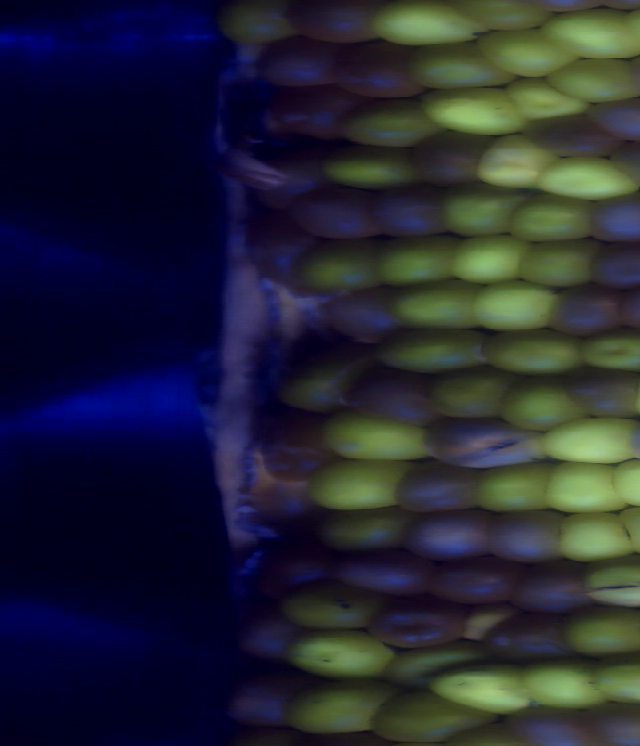fluorescent: (364, 684, 508, 746), (317, 402, 446, 468), (279, 669, 403, 737), (297, 454, 424, 516), (267, 341, 367, 419), (380, 632, 499, 696), (368, 323, 500, 380), (278, 622, 397, 684), (273, 577, 397, 636), (425, 658, 540, 721), (414, 81, 534, 141), (331, 94, 451, 153), (478, 323, 592, 384), (514, 650, 614, 719), (311, 501, 422, 561), (529, 412, 640, 471), (405, 41, 524, 96), (498, 372, 598, 437), (384, 276, 490, 337), (536, 5, 640, 67), (470, 27, 584, 83), (527, 152, 640, 208), (312, 139, 425, 194), (466, 128, 563, 192), (436, 178, 536, 240), (424, 362, 516, 429), (467, 274, 562, 338), (365, 1, 488, 50), (463, 458, 557, 522), (283, 233, 383, 293), (370, 230, 466, 291), (553, 600, 640, 666), (509, 234, 603, 295), (445, 227, 534, 291), (549, 506, 640, 567), (536, 455, 625, 515), (501, 193, 600, 246), (543, 54, 640, 108), (208, 1, 308, 52), (498, 71, 595, 122), (586, 642, 640, 713), (574, 322, 640, 380), (447, 1, 556, 36), (578, 552, 640, 613), (605, 456, 640, 514)
nonfluorescent: (220, 131, 342, 210), (416, 411, 551, 474), (246, 517, 338, 606), (258, 78, 372, 147), (212, 660, 319, 730), (360, 591, 476, 654), (327, 37, 432, 105), (341, 366, 446, 434), (394, 504, 506, 566), (328, 543, 438, 606), (281, 181, 386, 246), (473, 609, 581, 670), (424, 550, 526, 614), (389, 454, 485, 520), (223, 597, 312, 668), (273, 1, 394, 51), (518, 110, 627, 165), (401, 126, 493, 191), (482, 505, 578, 567), (240, 212, 319, 287), (251, 30, 345, 93), (504, 555, 598, 618), (363, 178, 451, 244), (318, 284, 411, 344), (256, 406, 330, 479), (495, 700, 612, 746), (558, 360, 640, 424), (542, 281, 628, 341), (584, 239, 640, 297), (587, 187, 640, 248), (579, 696, 640, 746), (584, 93, 640, 146), (606, 134, 640, 204)
